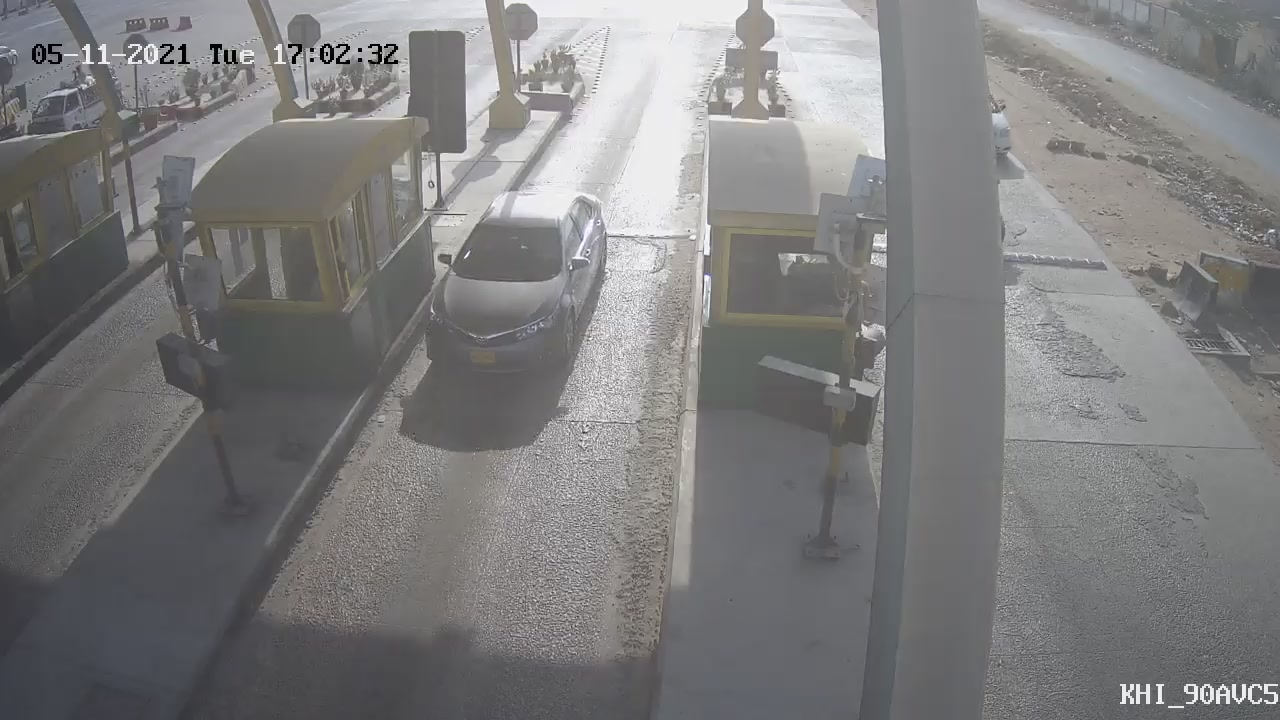F1: (403, 168, 634, 399)
